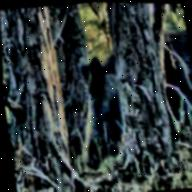boar: (67, 27, 192, 159)
